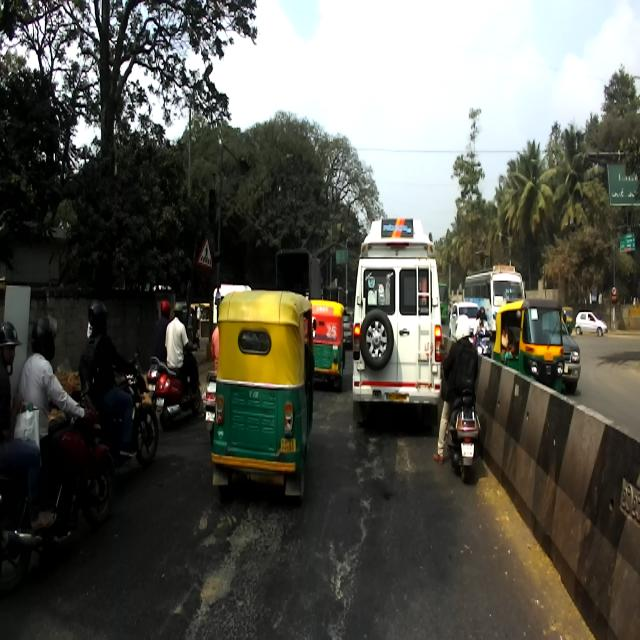auto ahead at: (216, 294, 318, 493)
bus ahead at: (347, 214, 444, 429)
motorcycle ahead at: (442, 407, 488, 486), (154, 360, 181, 422)
